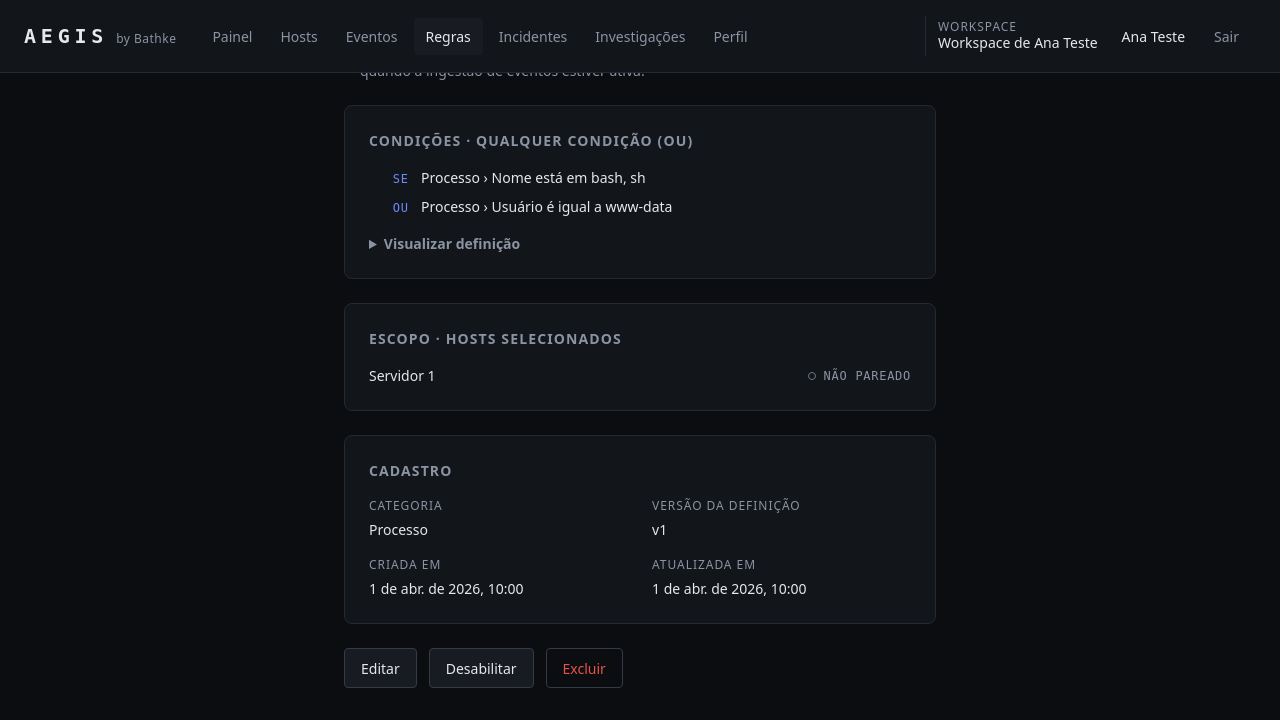
Test: rule detail › toggles enabled through PUT keeping the definition and targets
The width and height of the screenshot is (1280, 720).
(page scrolled)
Click the button "Desabilitar". click: (481, 668)
box: left=429, top=648, right=534, bottom=688
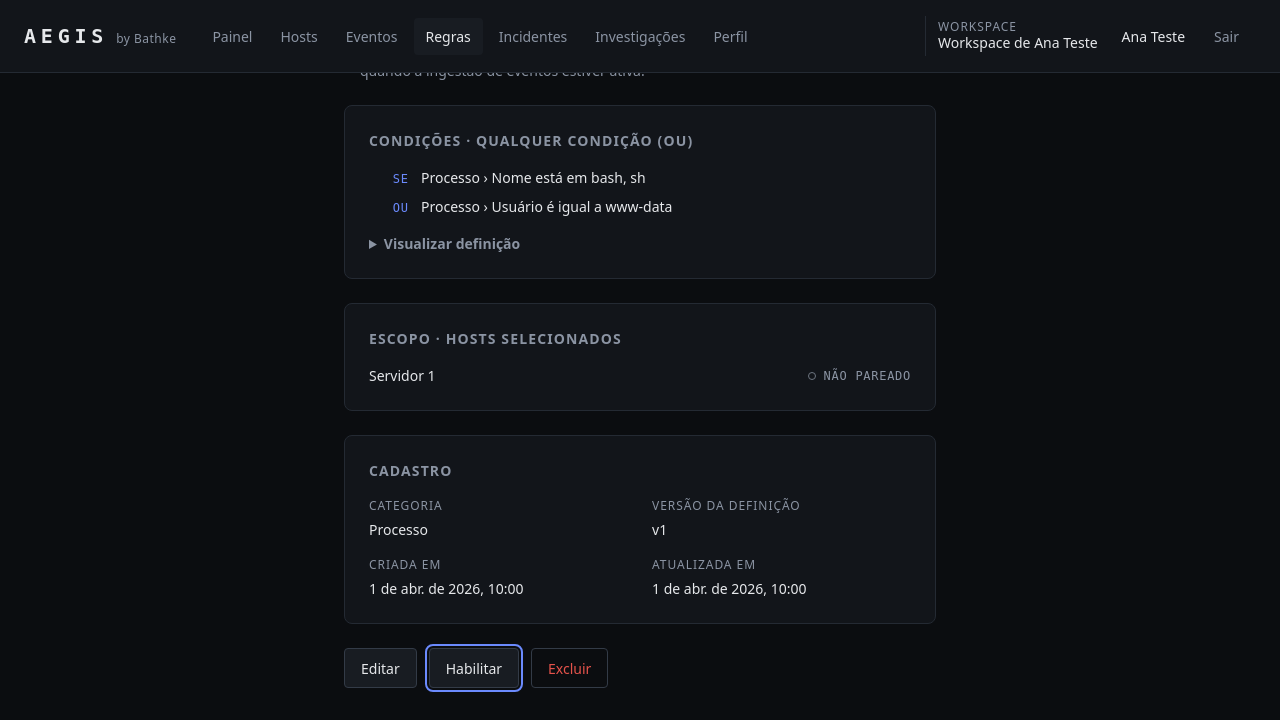
Expected: the button "Habilitar" is shown, left=429, top=648, right=519, bottom=688
